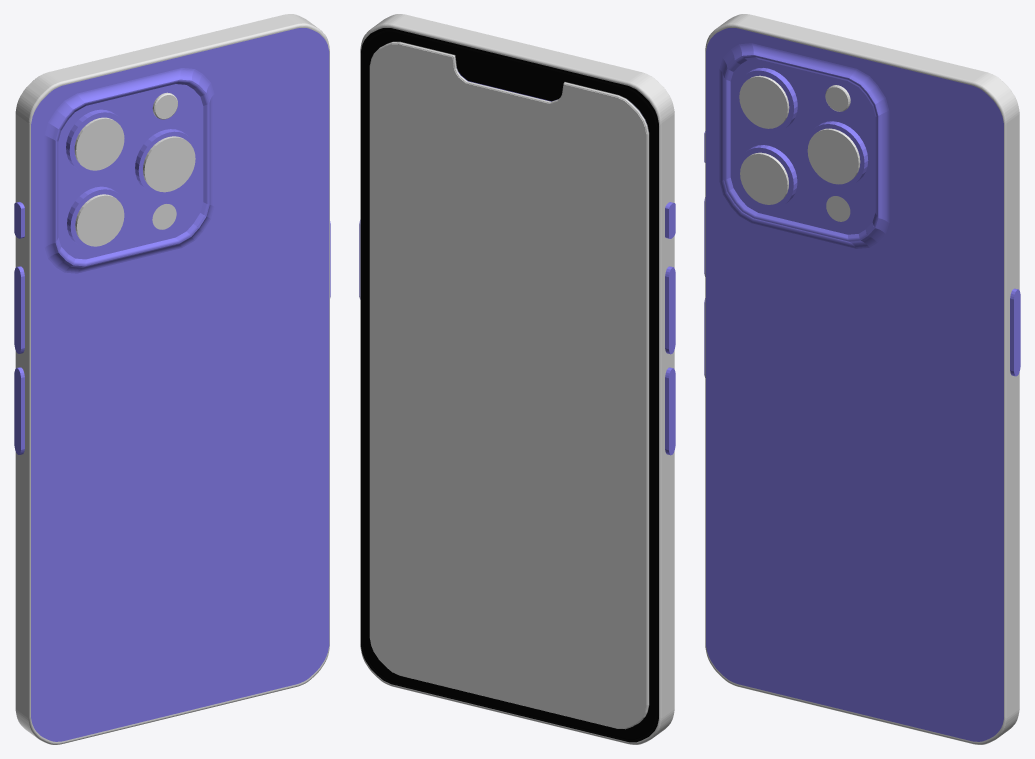
The model's file is iphone.fbx.
The picture shows the model from 3 angles, left to right: view 1: azimuth 30°, elevation 25°; view 2: azimuth 150°, elevation 25°; view 3: azimuth 330°, elevation 25°; orthographic projection.
Parts seen in each view (by area): view 1: carcasa (color), metal, lenses, botones, flash; view 2: pantalla(cristal), borde de pantalla, metal, botones; view 3: carcasa (color), metal, lenses, botones, flash.
Boxes of the visible parts, x1=… form: carcasa (color): x1=31, y1=28, x2=329, y2=741; metal: x1=15, y1=14, x2=329, y2=744; lenses: x1=74, y1=117, x2=195, y2=246; botones: x1=14, y1=202, x2=330, y2=454; flash: x1=152, y1=92, x2=177, y2=119; pantalla(cristal): x1=369, y1=42, x2=648, y2=729; borde de pantalla: x1=361, y1=28, x2=658, y2=742; metal: x1=360, y1=14, x2=674, y2=744; botones: x1=359, y1=202, x2=675, y2=455; carcasa (color): x1=706, y1=28, x2=1003, y2=741; metal: x1=705, y1=14, x2=1019, y2=744; lenses: x1=739, y1=75, x2=860, y2=221; botones: x1=704, y1=131, x2=1020, y2=377; flash: x1=825, y1=85, x2=850, y2=111.
Size of the model in its own units: 1443 by 2952 by 183.
